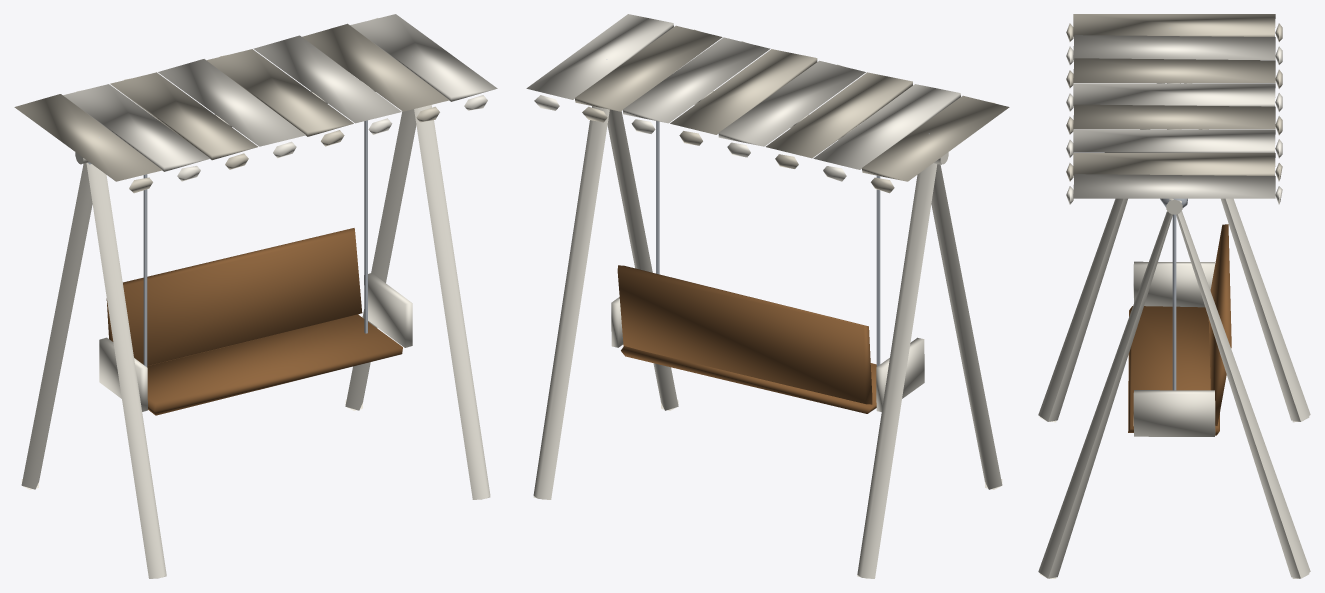
The model's file is lod_swing_bench.glb.
3 renders of one model, left to right at view 1: azimuth 30°, elevation 25°; view 2: azimuth 150°, elevation 25°; view 3: azimuth 270°, elevation 25°, orthographic.
Parts seen in each view (by area): view 1: swing_bench; view 2: swing_bench; view 3: swing_bench.
Boxes of the visible parts, x1=… form: swing_bench: x1=14, y1=14, x2=497, y2=578; swing_bench: x1=526, y1=14, x2=1009, y2=578; swing_bench: x1=1038, y1=14, x2=1310, y2=578.
Size of the model in its own units: 2.59 by 2.58 by 1.62.
